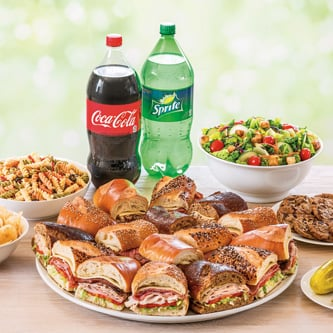soup: (202, 245, 285, 300), (184, 260, 255, 314), (73, 255, 141, 311), (125, 261, 190, 317), (230, 223, 298, 275), (31, 222, 99, 269), (47, 239, 102, 292), (56, 197, 117, 236)
sushi: (196, 116, 323, 204), (0, 152, 90, 221), (0, 203, 30, 266)
